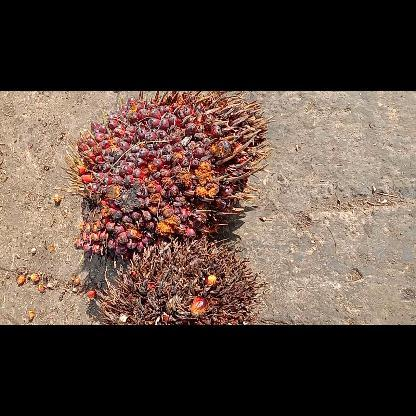TBS masak: (60, 90, 272, 266)
Terlalu masak: (95, 234, 266, 324)
